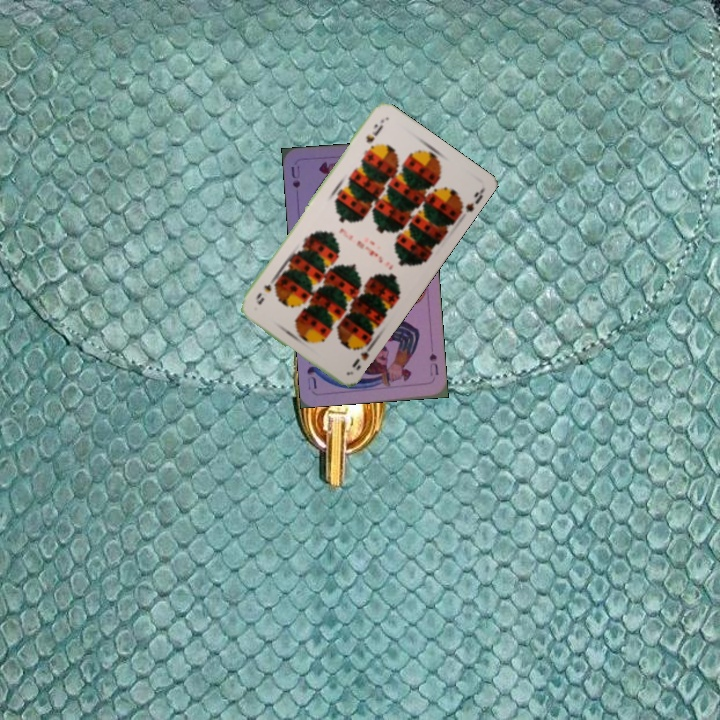S9: (348, 337, 377, 370), (362, 119, 381, 145)
SU: (425, 350, 441, 379), (287, 162, 303, 190)
